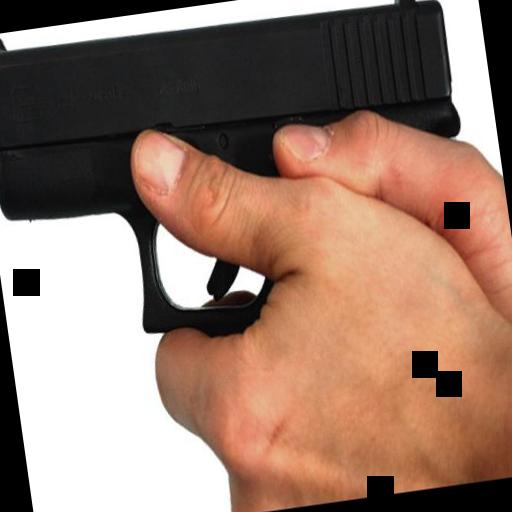Handgun: (0, 0, 486, 375)
